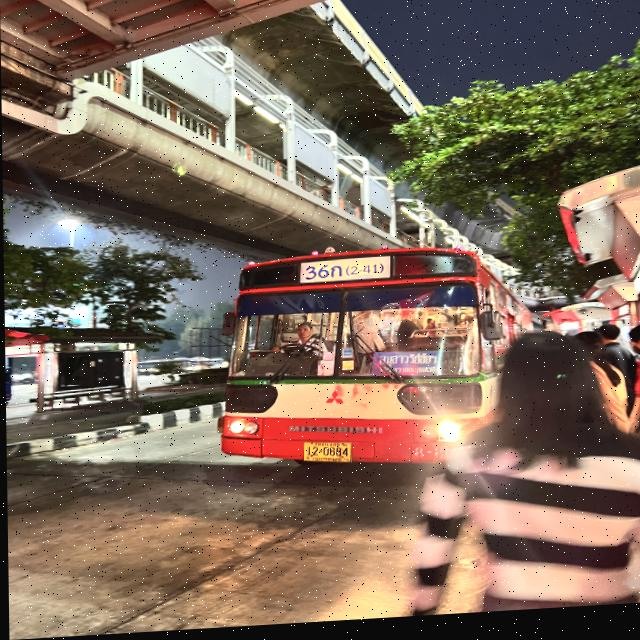BMTA-bus: (215, 245, 549, 480)
Bus-Line-Number: (298, 259, 394, 291)
Destination-Sign-Normal: (371, 353, 444, 384)
